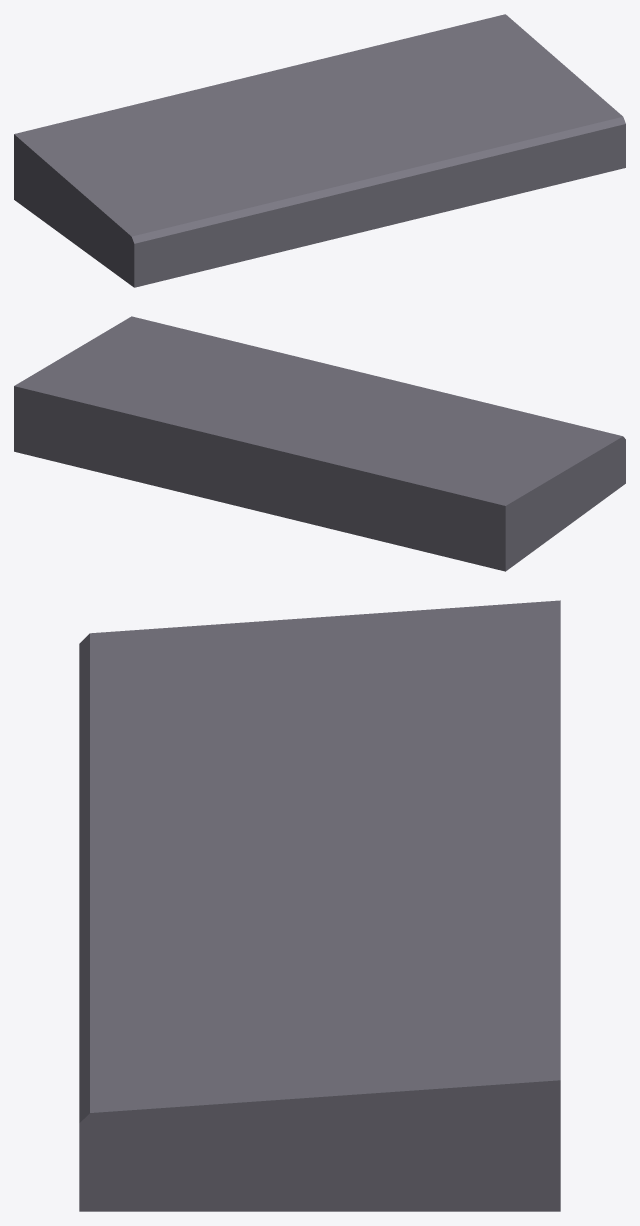
File: SM_Fixture_CanopyD08423_01.gltf
3 views of the same model, one above another, from view 1: azimuth 30°, elevation 25°; view 2: azimuth 150°, elevation 25°; view 3: azimuth 270°, elevation 25° (orthographic). The views are drawn at different scales.
Visible parts, largest first — view 1: SM_Fixture_CanopyD08423_01; view 2: SM_Fixture_CanopyD08423_01; view 3: SM_Fixture_CanopyD08423_01.
Part boxes in pixels (<box>): SM_Fixture_CanopyD08423_01: <box>14,14,625,287</box>; SM_Fixture_CanopyD08423_01: <box>14,316,625,571</box>; SM_Fixture_CanopyD08423_01: <box>79,600,560,1211</box>.
Size of the model in its own units: 1.58 by 0.2015 by 0.67.
1 material, 1 textured.
